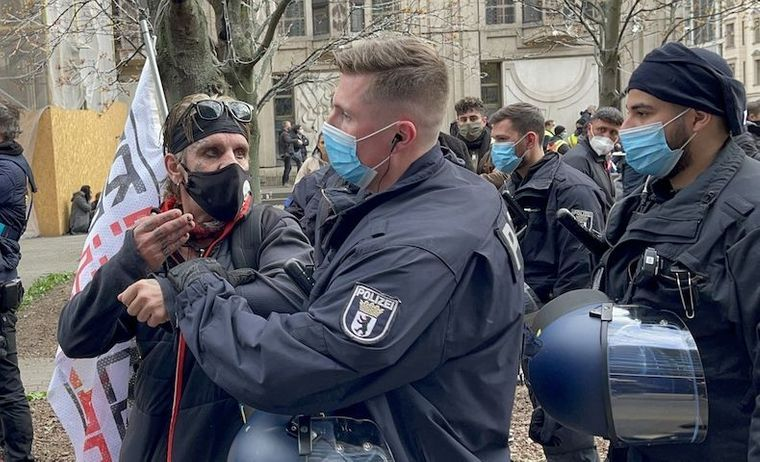with_mask: (317, 94, 400, 193), (185, 134, 259, 222), (614, 99, 690, 177), (484, 127, 537, 171), (583, 117, 619, 157), (451, 108, 490, 143)
